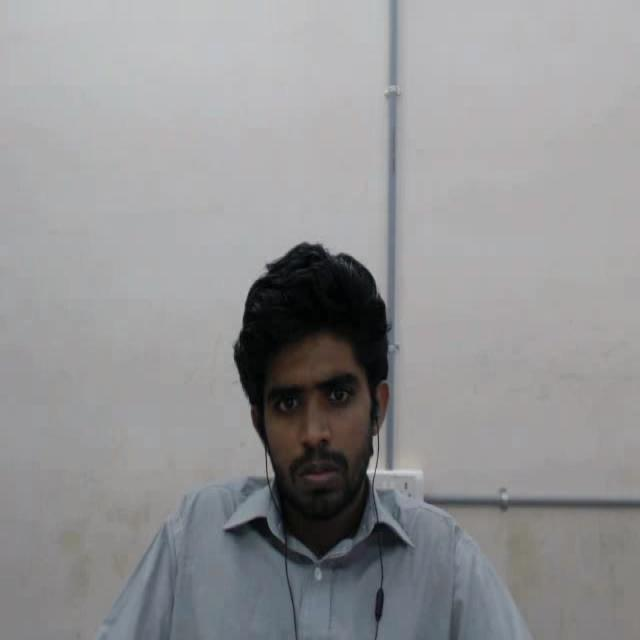Engaged: (187, 230, 423, 620)
